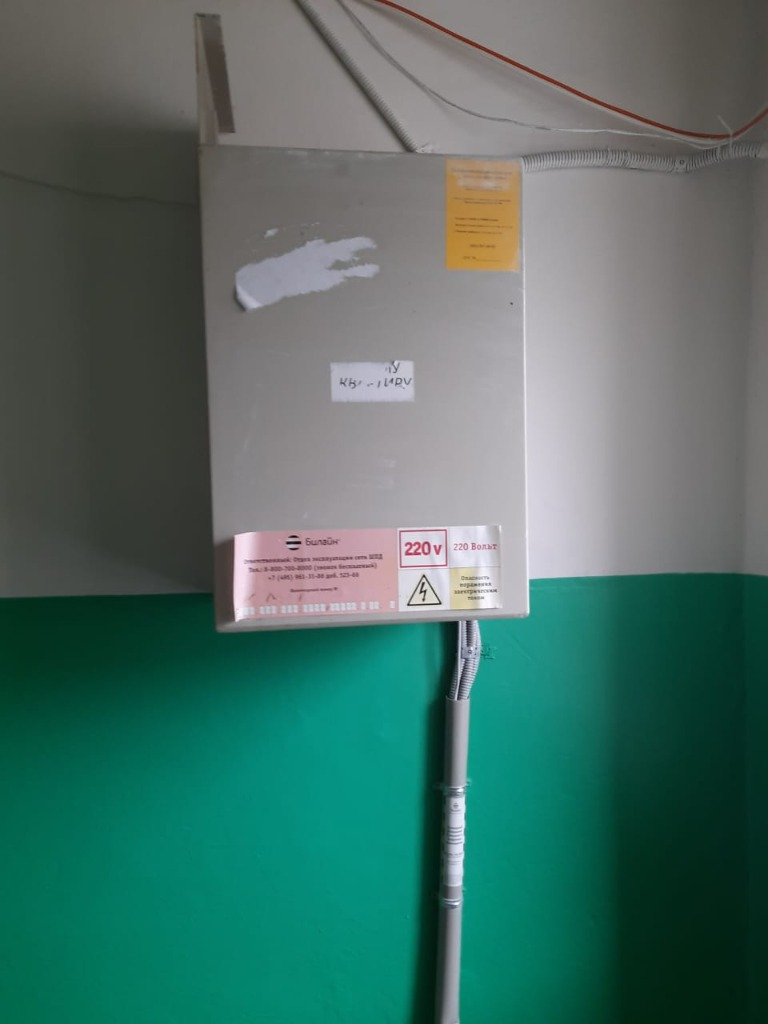sv-5: (195, 138, 537, 635)
